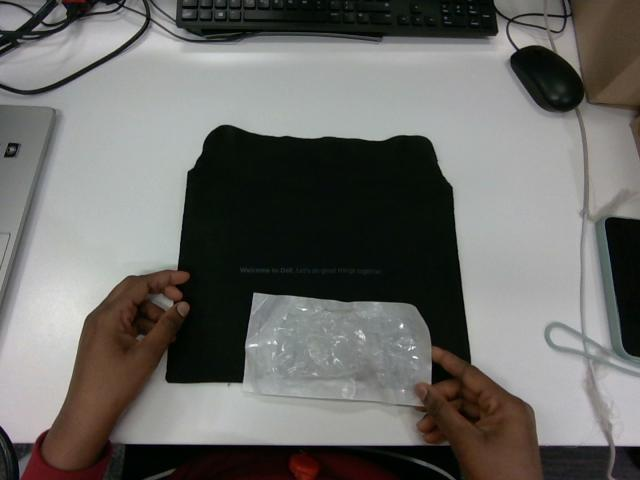gallipot: (243, 293, 431, 405)
